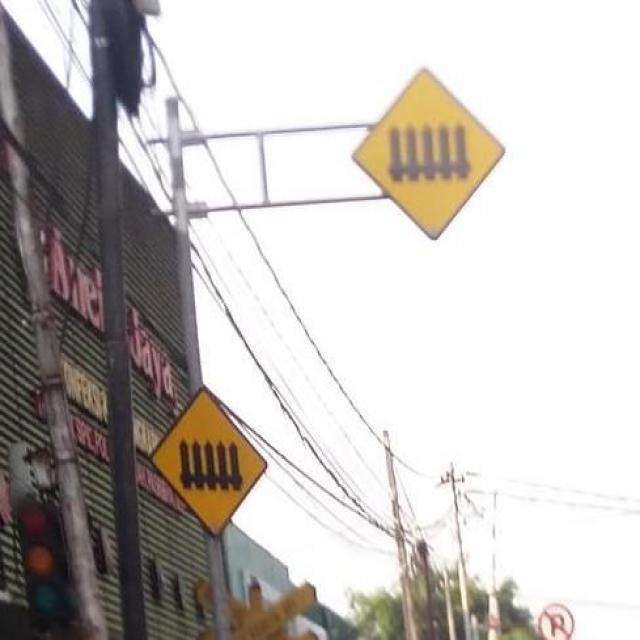traffic sign: (157, 391, 266, 531)
